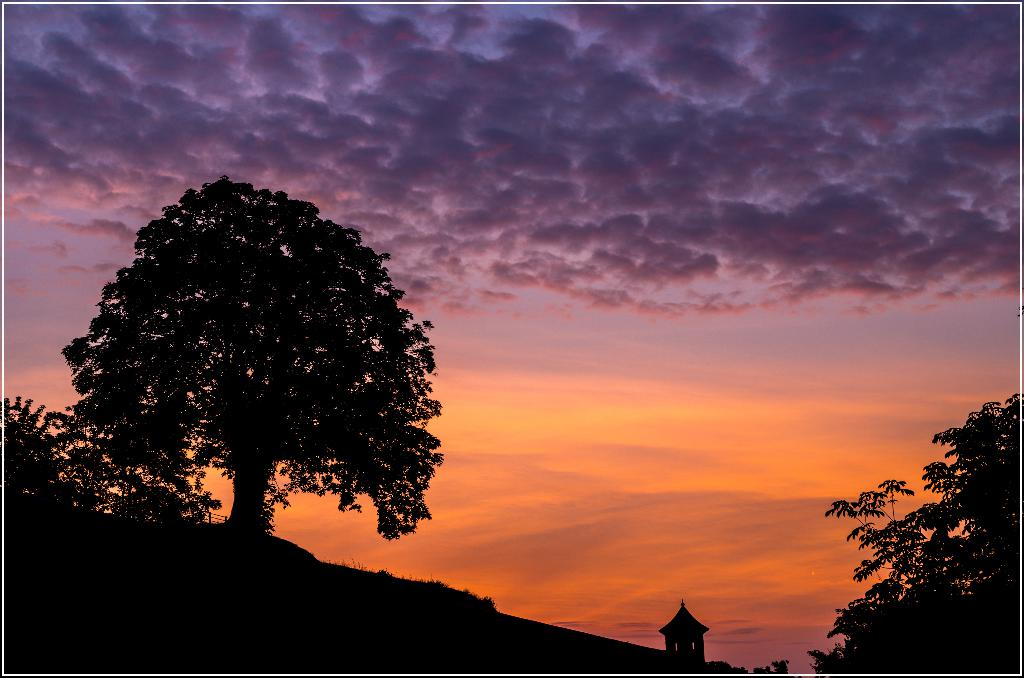Tree: (65, 173, 442, 540), (801, 391, 1017, 673)
